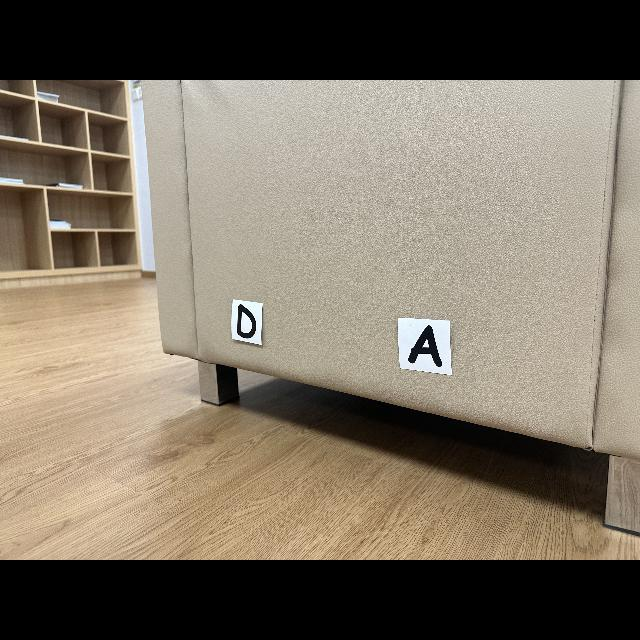A: (409, 325, 442, 366)
D: (236, 304, 256, 339)
